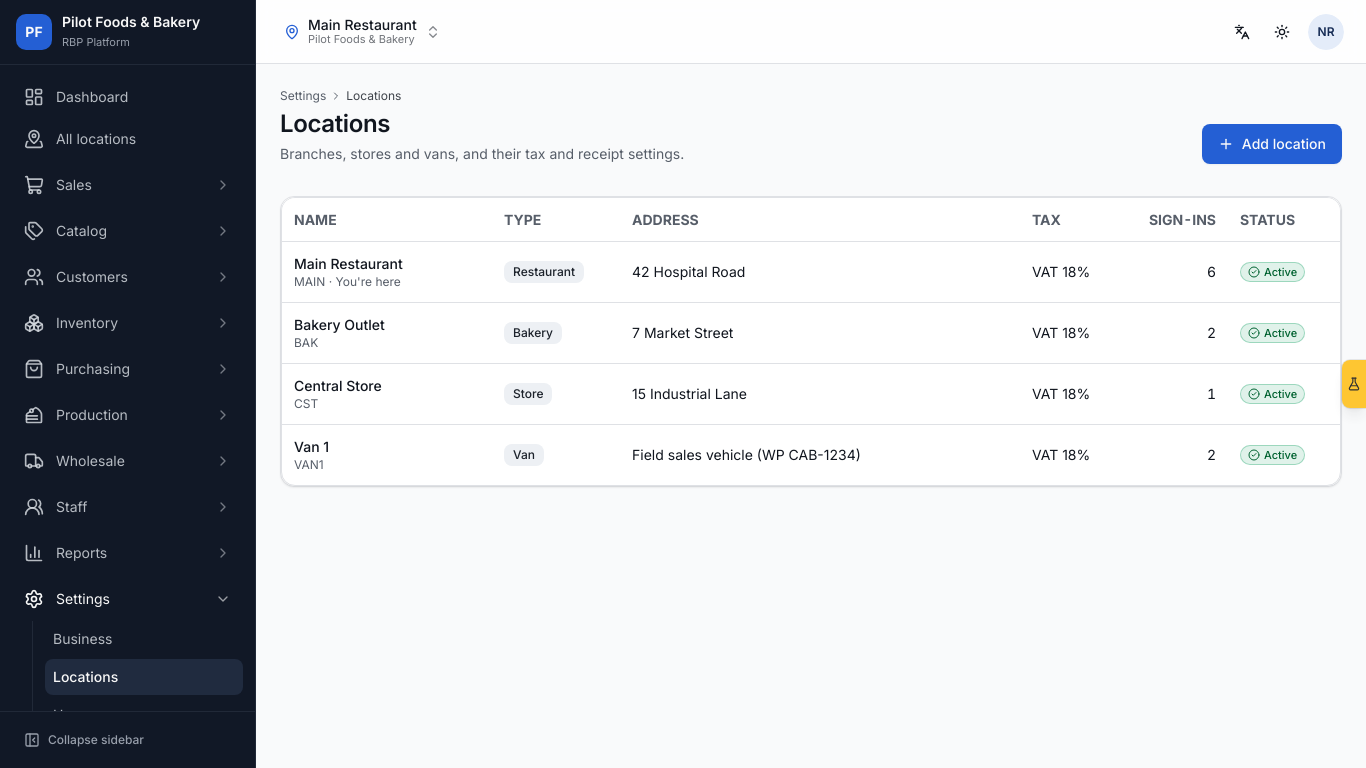
Test: SET-002 locations › adds a location
Expected: the text "Central Store" is shown, x1=294 y1=377 x2=382 y2=394
Click the button "Add location".
click(1272, 144)  # box x1=1202 y1=124 x2=1342 y2=164
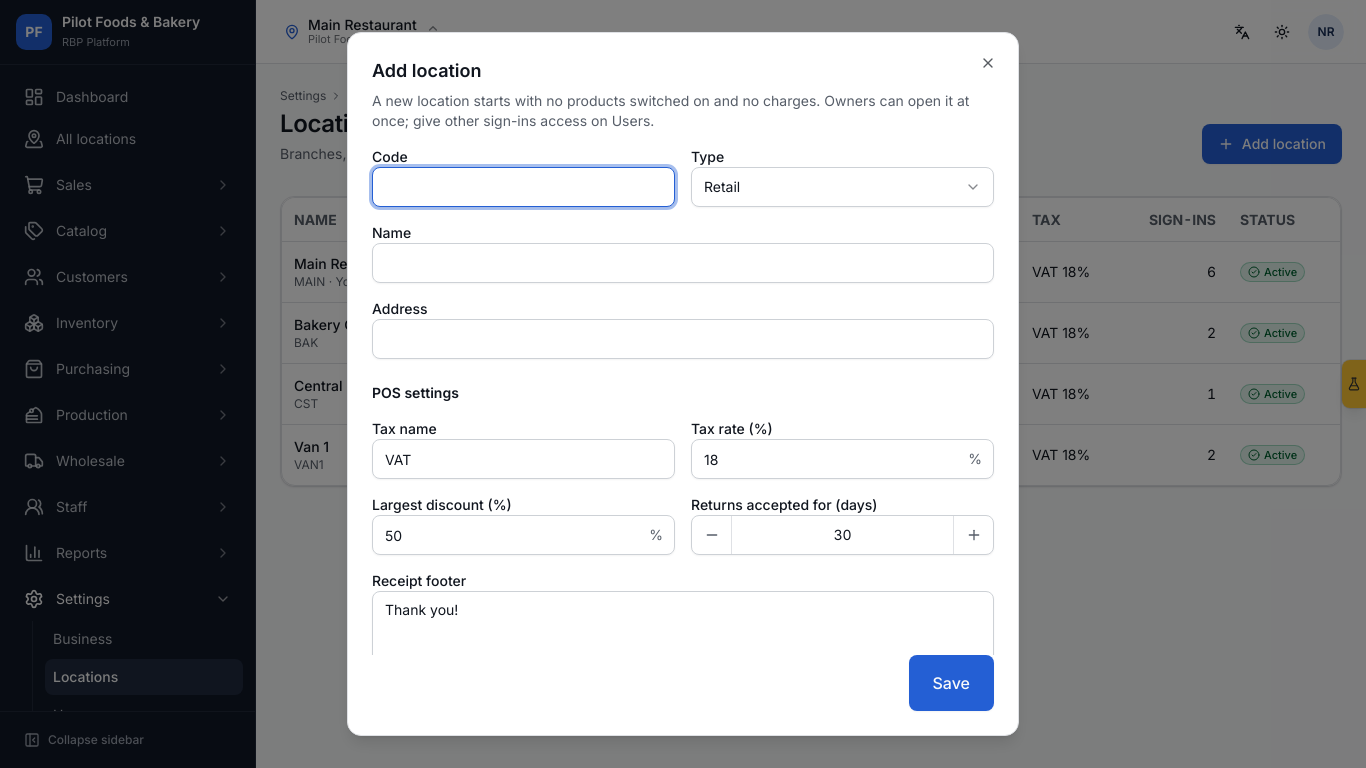
Type "gal" into the field labelled "Code".
click(524, 187); type("gal")  # box x1=372 y1=167 x2=675 y2=207
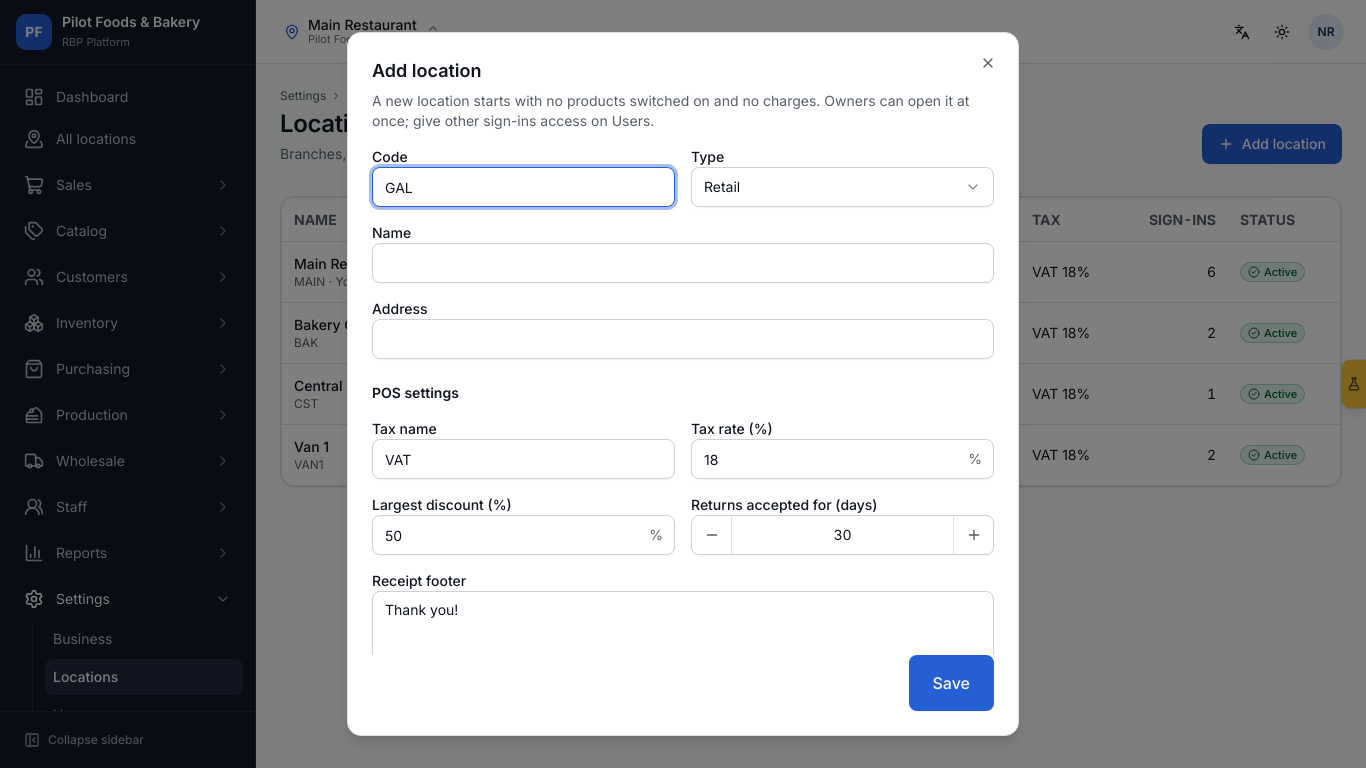
Type "Galle Road" into the field labelled "Name".
click(683, 263); type("Galle Road")  # box x1=372 y1=243 x2=994 y2=283
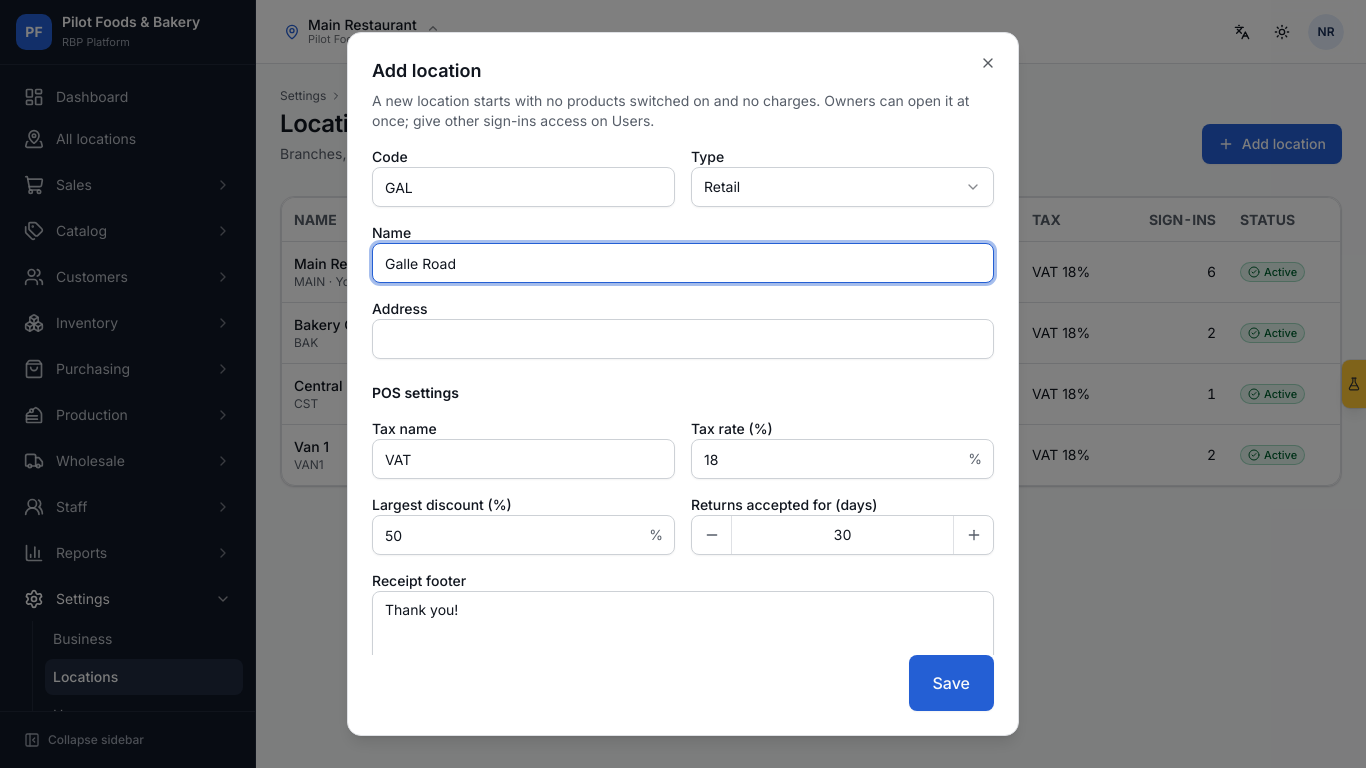
Type "12 Galle Road, Colombo 3" into the field labelled "Address".
click(683, 339); type("12 Galle Road, Colombo 3")  # box x1=372 y1=319 x2=994 y2=359
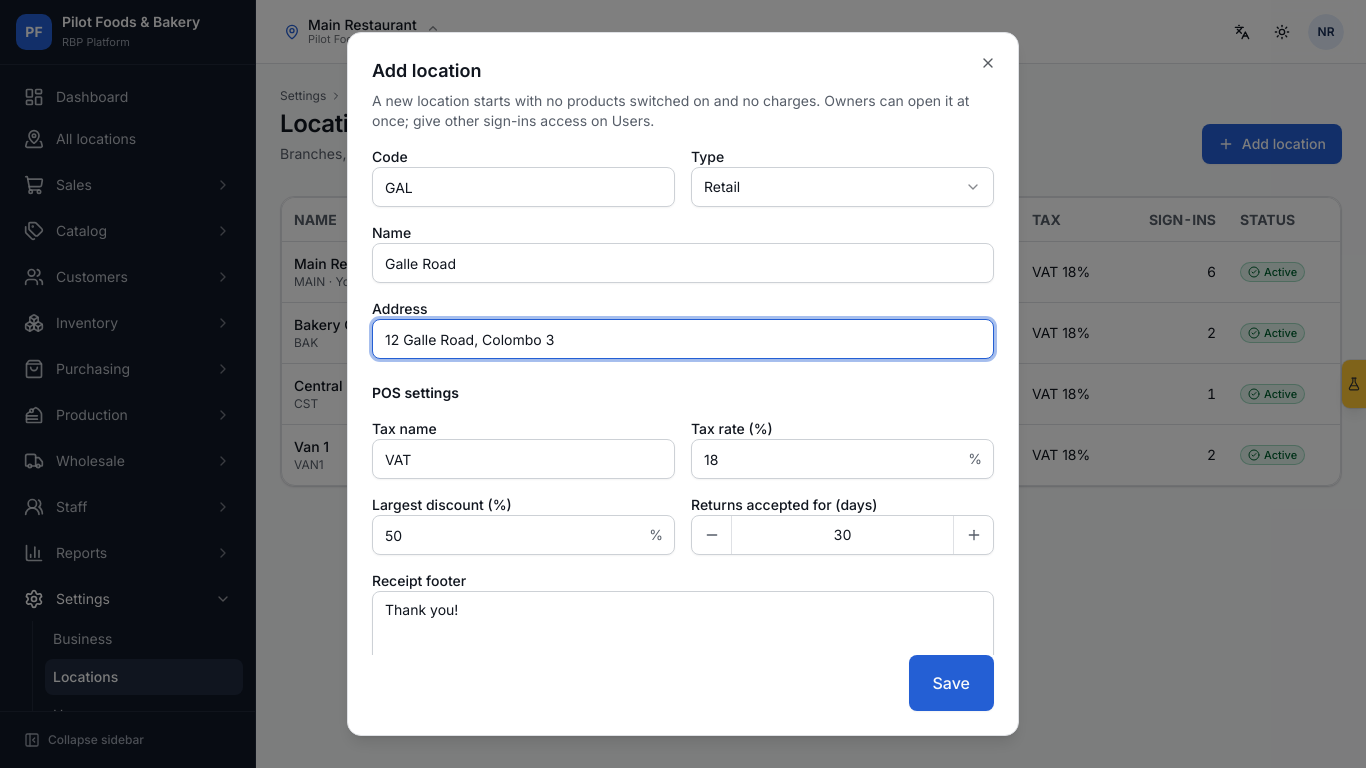
Click the button "Save".
click(951, 683)  # box x1=908 y1=655 x2=994 y2=711
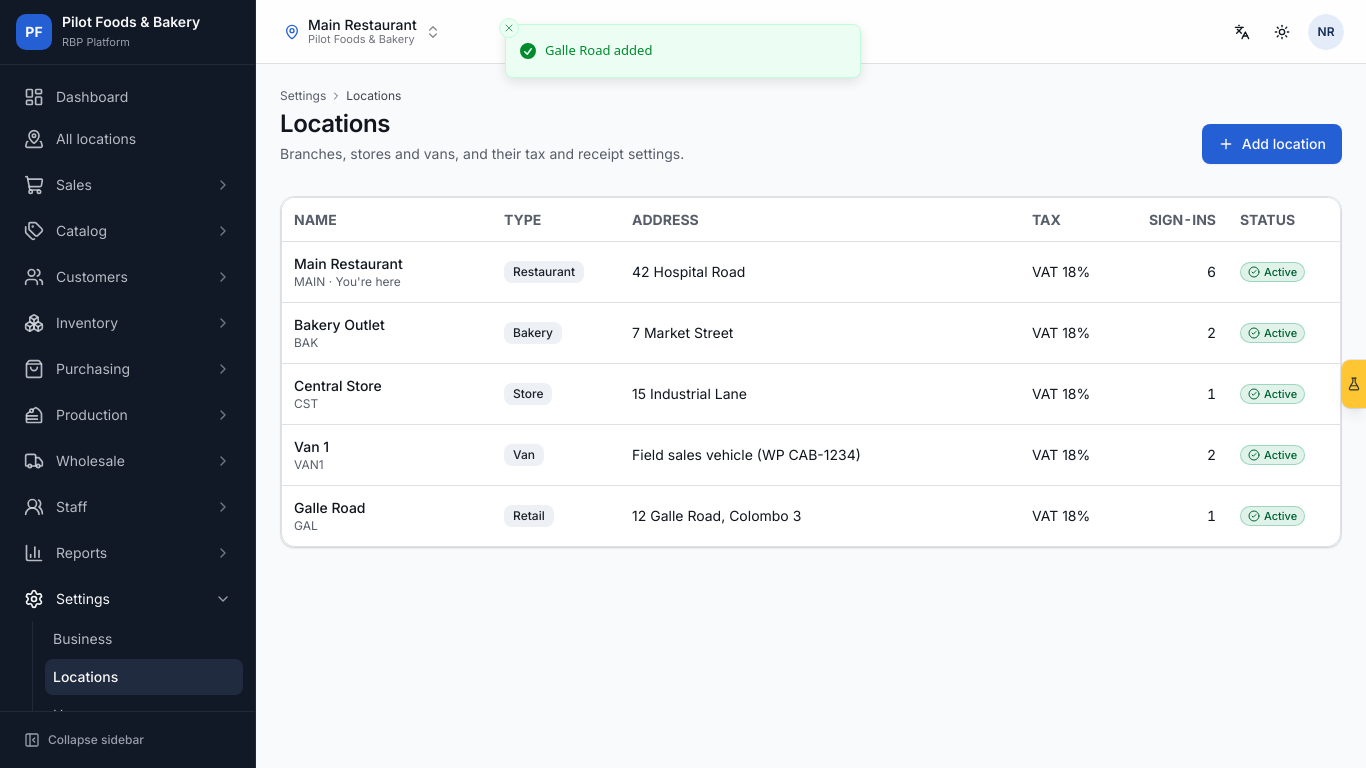
Now the text "Galle Road added" is shown, box x1=545 y1=41 x2=652 y2=60
Now the text "Galle Road" is shown, box x1=294 y1=499 x2=366 y2=516
